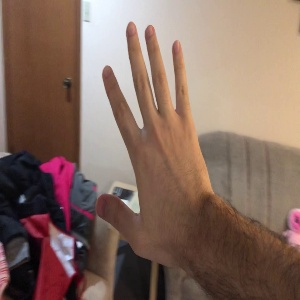hand: (96, 21, 215, 256)
